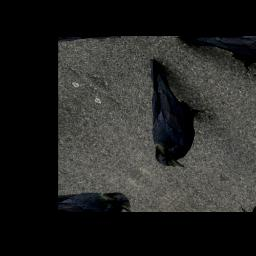Crow: (90, 56, 241, 177)
